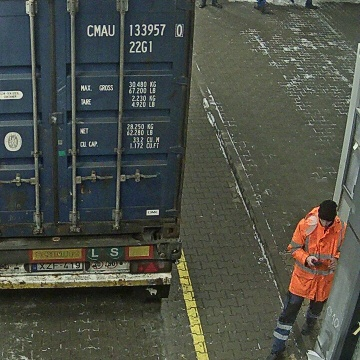serial_id: (86, 24, 182, 36)
